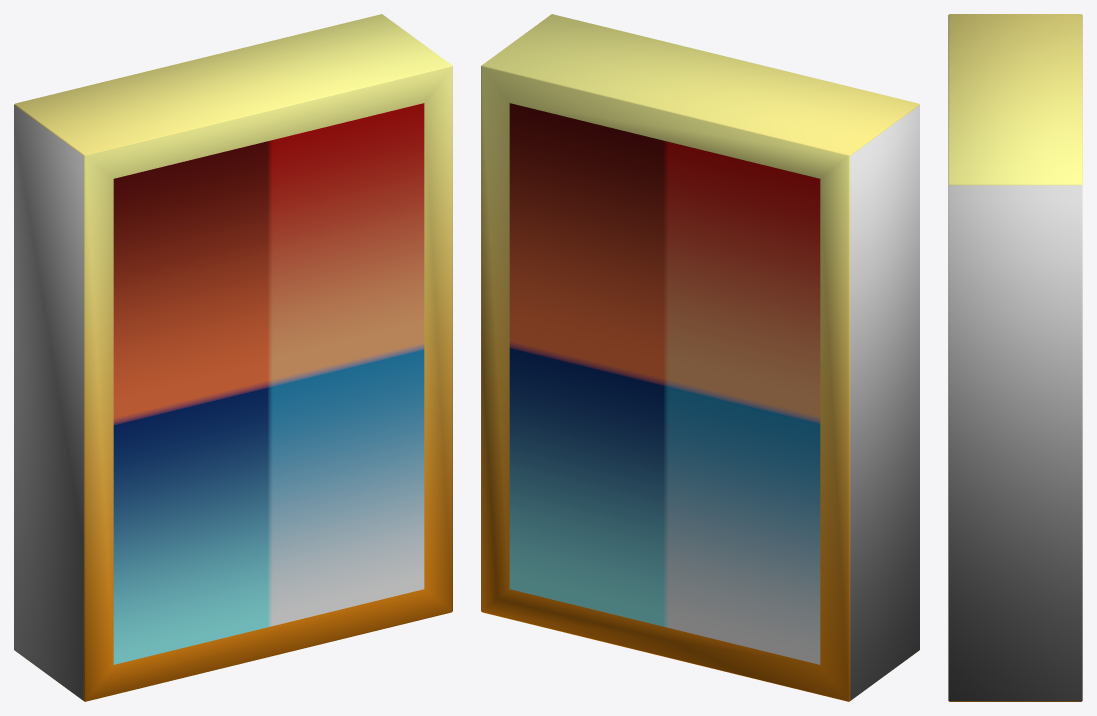
The model's file is cereal_box_01.glb.
The picture shows the model from 3 angles, left to right: view 1: azimuth 30°, elevation 25°; view 2: azimuth 150°, elevation 25°; view 3: azimuth 270°, elevation 25°; orthographic projection. The views are drawn at different scales.
Parts seen in each view (by area): view 1: cereal_box; view 2: cereal_box; view 3: cereal_box.
Boxes of the visible parts, x1,y1,x2,y2 form: cereal_box: [14, 14, 452, 701]; cereal_box: [481, 14, 919, 701]; cereal_box: [948, 14, 1082, 701].
Size of the model in its own units: 0.24 by 0.34 by 0.08.
1 material, 1 textured.
